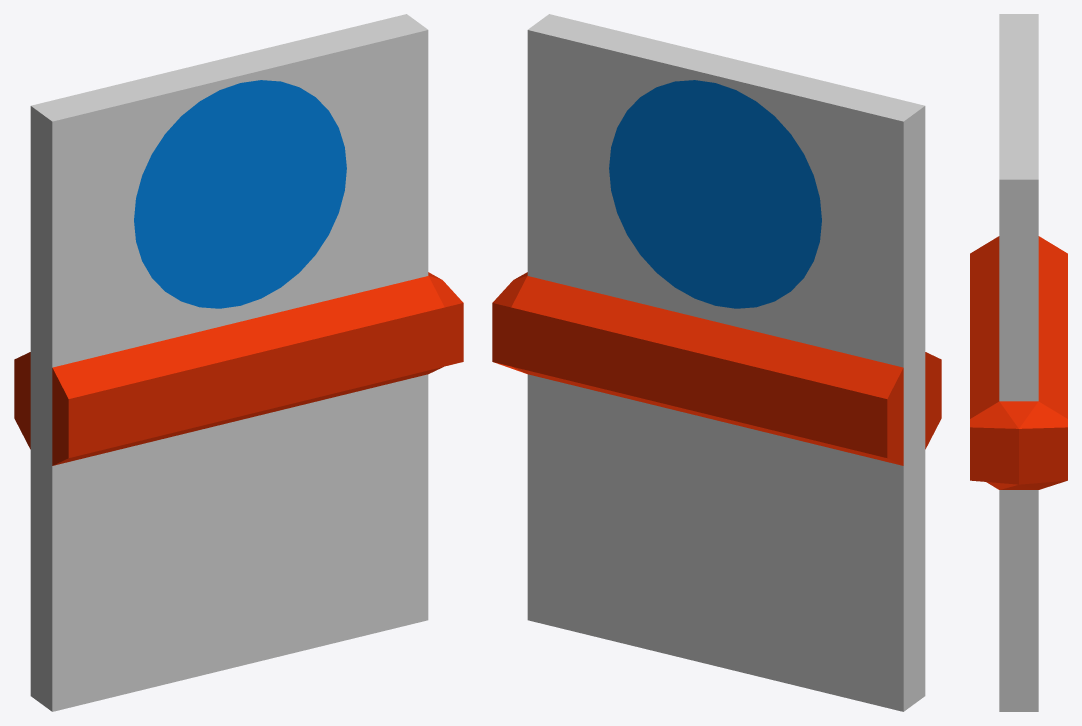
Rendered from WallEnd1.fbx.
3 views of the same model, side by side, from view 1: azimuth 30°, elevation 25°; view 2: azimuth 150°, elevation 25°; view 3: azimuth 270°, elevation 25° (orthographic). The views are drawn at different scales.
Visible parts, largest first — view 1: WallEnd1; view 2: WallEnd1; view 3: WallEnd1.
Boxes of the visible parts, x1,y1,x2,y2 form: WallEnd1: (14,14,463,711); WallEnd1: (492,14,941,711); WallEnd1: (970,14,1067,711).
Bounding box in the file's own units: 213 × 300 × 50.
